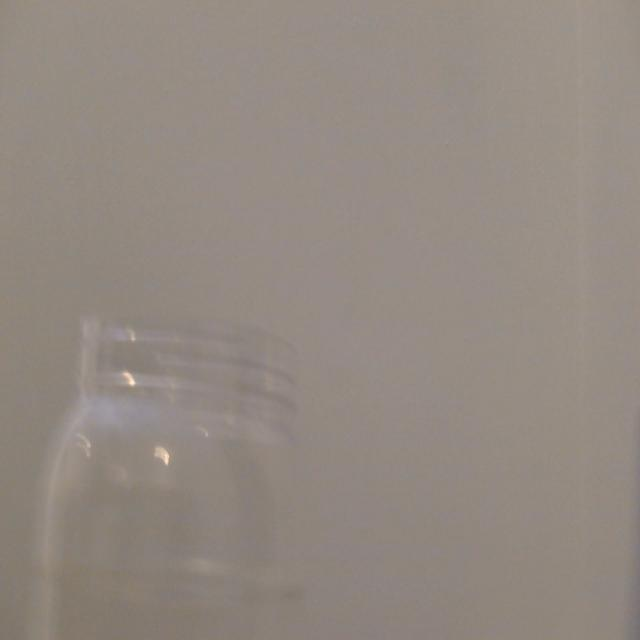missing_cap: (52, 294, 343, 472)
